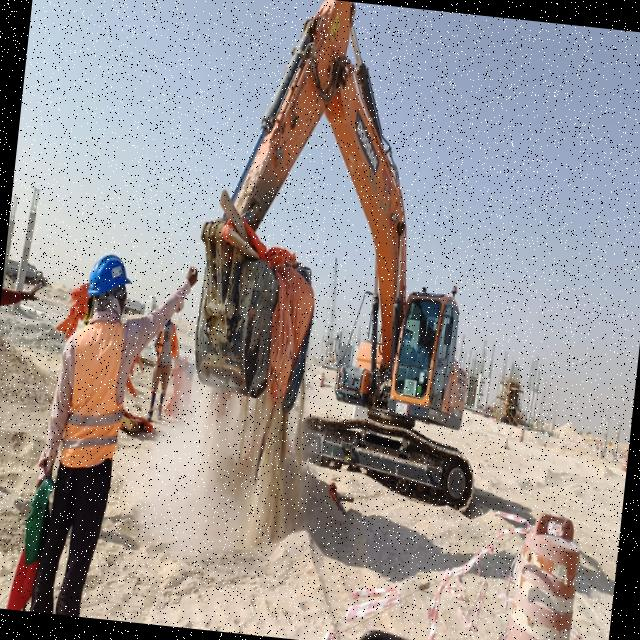Excavator: (176, 0, 526, 513)
